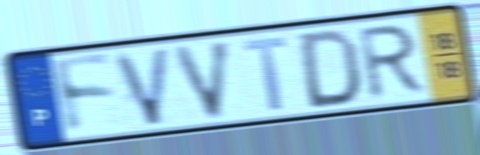D: (298, 26, 362, 112)
F: (49, 51, 118, 138)
R: (357, 20, 430, 103)
T: (240, 34, 290, 114)
V: (170, 37, 236, 123), (111, 44, 174, 130)
